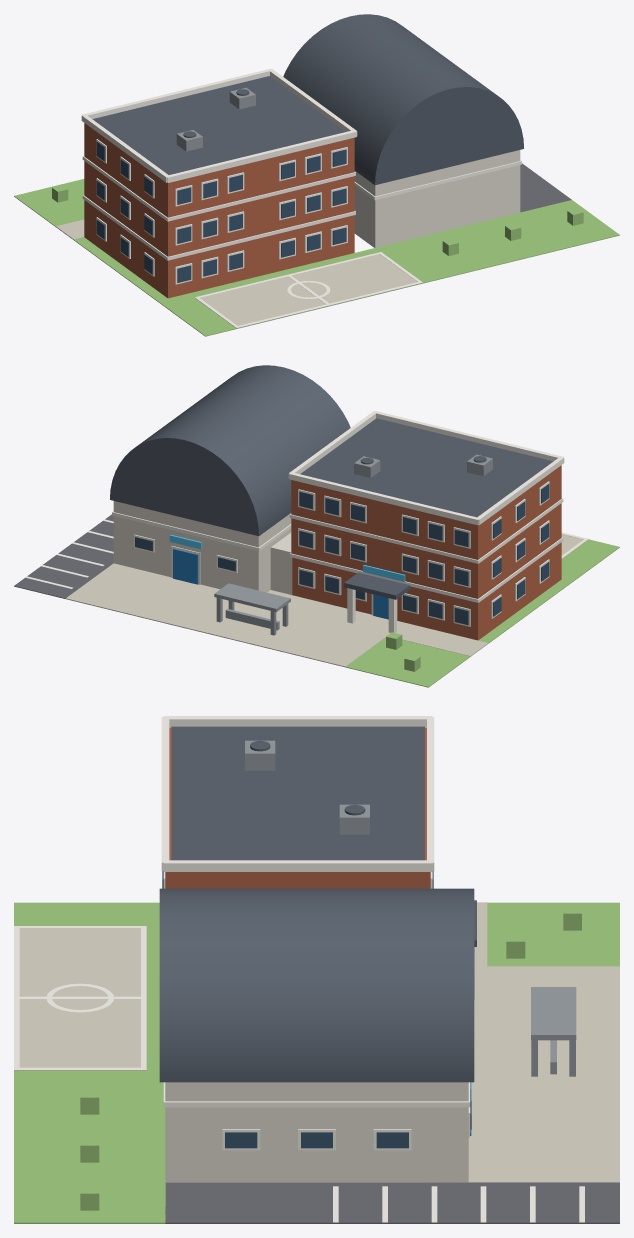
File: highschool.glb
3 views of the same model, one above another, from view 1: azimuth 30°, elevation 25°; view 2: azimuth 150°, elevation 25°; view 3: azimuth 270°, elevation 25° (orthographic). The views are drawn at different scales.
Parts seen in each view (by area): view 1: gym_roof, teaching_block, roof, field, gym, court, parapet (×4), string_course (×3), lawn, car_park, court_line (×2), lawn_side; view 2: gym_roof, teaching_block, forecourt (×2), roof, gym, parapet (×4), car_park, string_course (×3), lawn, field, link, bike_shelter (+4 smaller); view 3: gym_roof, roof, forecourt (×2), field, gym, car_park, court, parapet (×4), lawn, teaching_block, bike_shelter, string_course (+2 smaller).
Boxes of the visible parts, box(x1,y1,x2,y2) form: gym_roof: box(283, 14, 523, 185); teaching_block: box(84, 123, 354, 298); roof: box(92, 76, 345, 174); field: box(157, 200, 619, 336); gym: box(354, 150, 520, 247); court: box(195, 254, 421, 328); parapet (×4): box(81, 68, 357, 182); string_course (×3): box(82, 156, 521, 260); lawn: box(14, 179, 84, 226); car_park: box(520, 163, 571, 212); court_line (×2): box(196, 252, 422, 327); lawn_side: box(74, 237, 167, 301); gym_roof: box(110, 365, 350, 536); teaching_block: box(291, 465, 561, 640); forecourt (×2): box(65, 563, 488, 667); roof: box(300, 418, 553, 517); gym: box(113, 501, 291, 592); parapet (×4): box(288, 411, 564, 525); car_park: box(14, 514, 113, 598); string_course (×3): box(112, 498, 563, 602); lawn: box(345, 637, 470, 687); field: box(561, 539, 619, 582); link: box(270, 532, 292, 594); bike_shelter: box(214, 583, 290, 612); gym_roof: box(159, 888, 474, 1082); roof: box(171, 726, 424, 860); forecourt (×2): box(431, 902, 619, 1182); field: box(14, 902, 165, 1223); gym: box(165, 1082, 468, 1182); car_park: box(165, 1182, 619, 1223); court: box(14, 928, 146, 1070); parapet (×4): box(161, 716, 434, 871); lawn: box(487, 902, 619, 966); teaching_block: box(165, 728, 430, 888); bike_shelter: box(531, 987, 576, 1040); string_course: box(163, 1082, 470, 1107).
Size of the model in its own units: 40 by 13.2 by 32.
